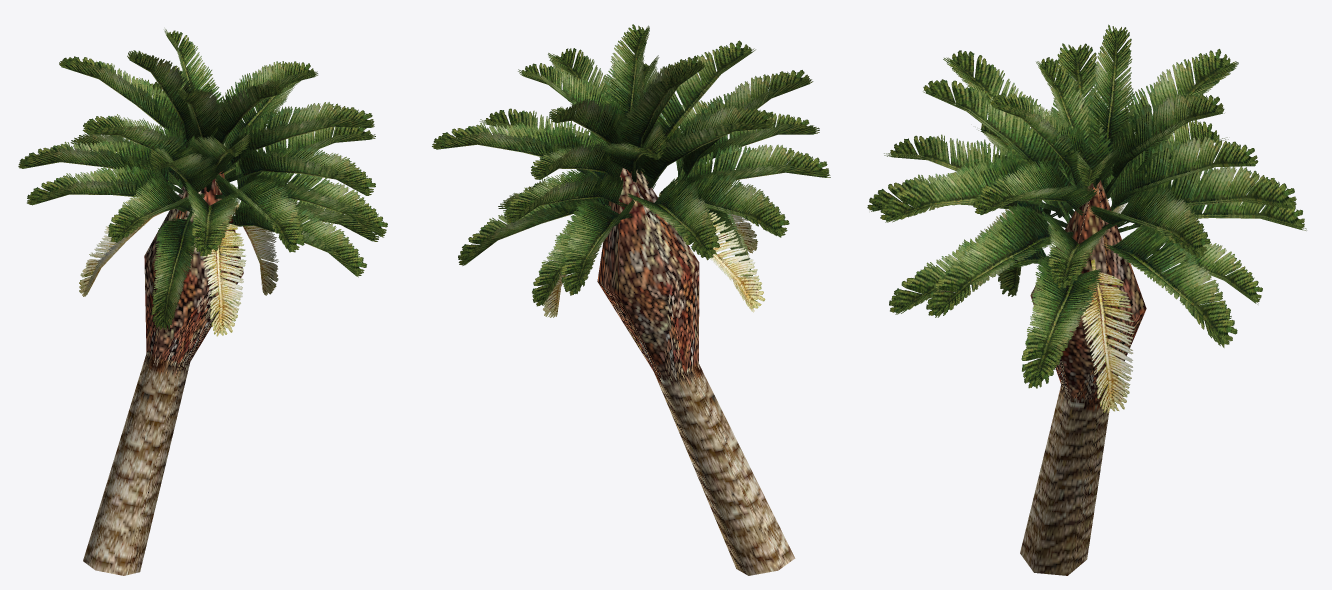
File: tree_cretan_date_palm_08.dae
The picture shows the model from 3 angles, left to right: view 1: azimuth 30°, elevation 25°; view 2: azimuth 150°, elevation 25°; view 3: azimuth 270°, elevation 25°; orthographic projection. The views are drawn at different scales.
Visible parts, largest first — view 1: tree_cretan_date_palm_08; view 2: tree_cretan_date_palm_08; view 3: tree_cretan_date_palm_08.
Boxes of the visible parts, box(x1,y1,x2,y2) form: tree_cretan_date_palm_08: box(18, 29, 387, 575); tree_cretan_date_palm_08: box(432, 24, 830, 575); tree_cretan_date_palm_08: box(867, 24, 1306, 575).
Size of the model in its own units: 7.7 by 11.36 by 8.04.
